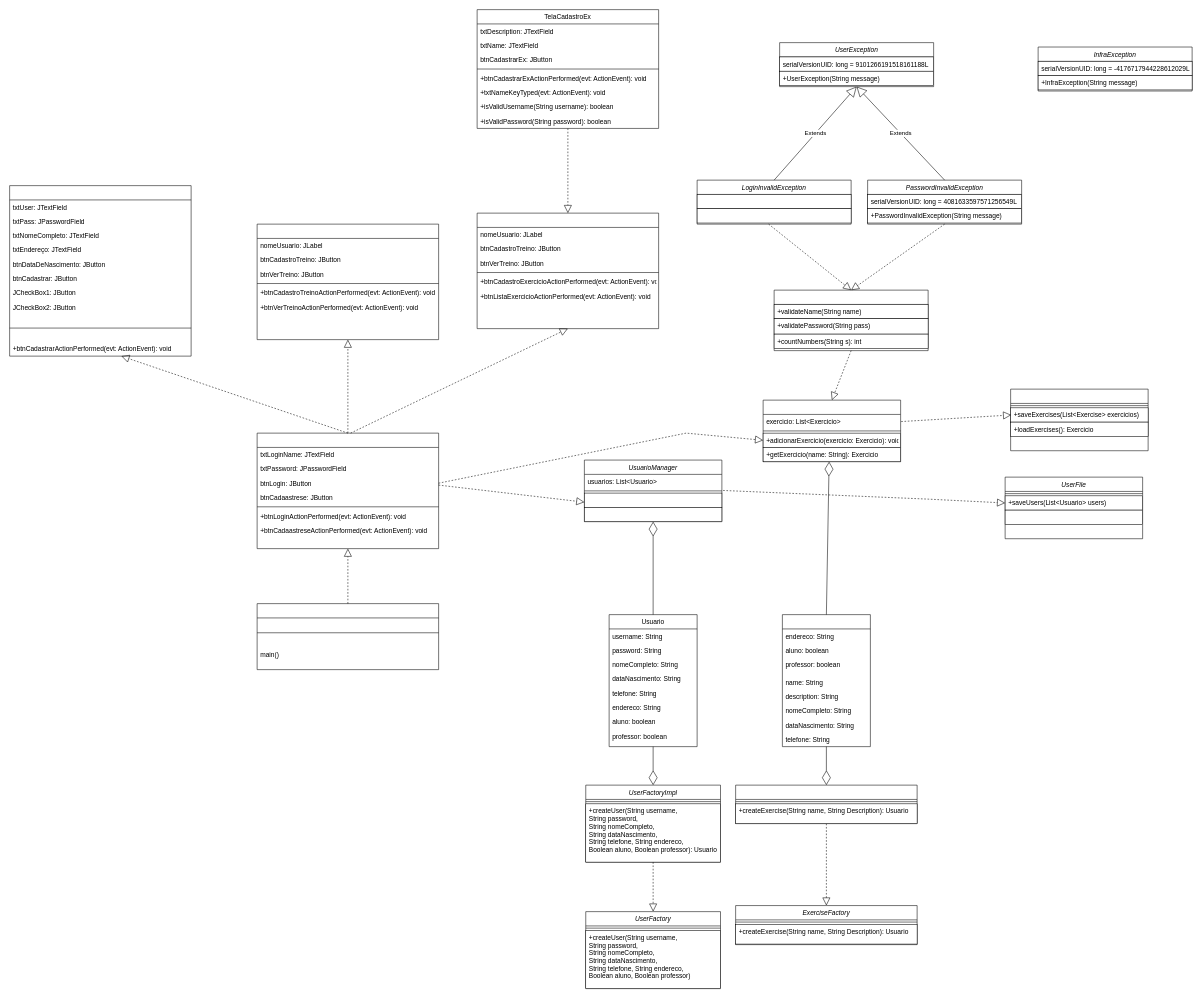
Image size: 1202x1000. Some labels were removed from this diagram. Each missing label, with the box of its shape:
+adicionarUsuario(usuario: Usuario): void: (584, 493, 722, 507)
+buscarUsuario(username: String): Usuario: (584, 507, 722, 522)
+carregarUsuario(): Usuario: (1005, 510, 1143, 524)
+LoginInvalidException(String message): (697, 208, 851, 223)
EasyGym: (257, 603, 439, 670)
Exercicio: (782, 614, 870, 747)
ExercicioManager: (763, 400, 901, 462)
ExerciseFactoryImpl: (735, 785, 917, 824)
ExerciseFile: (1010, 389, 1148, 451)
serialVersionUID: long = -3797234359811694207L: (697, 194, 851, 209)
TelaAluno: (257, 224, 439, 340)
TelaCadastro: (9, 185, 191, 356)
TelaPrincipal: (257, 433, 439, 549)
TelaProfessor: (477, 213, 659, 329)
UserValidator: (774, 290, 928, 351)
